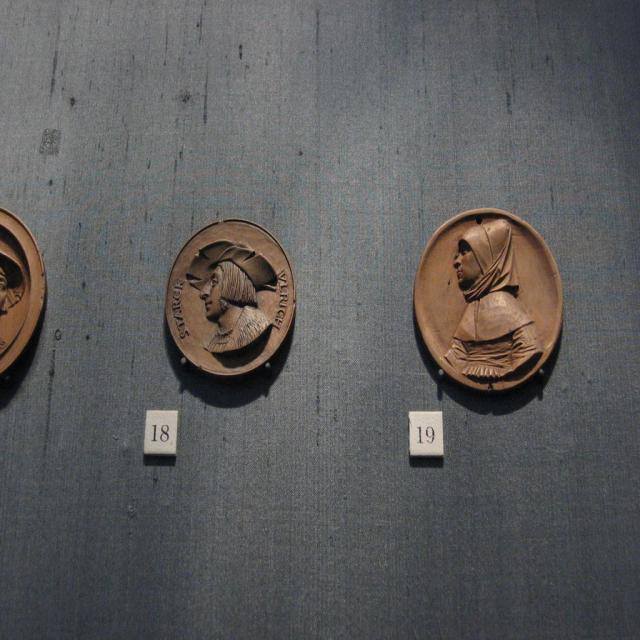Coin: (413, 209, 564, 391), (165, 217, 294, 381), (0, 204, 50, 372)
